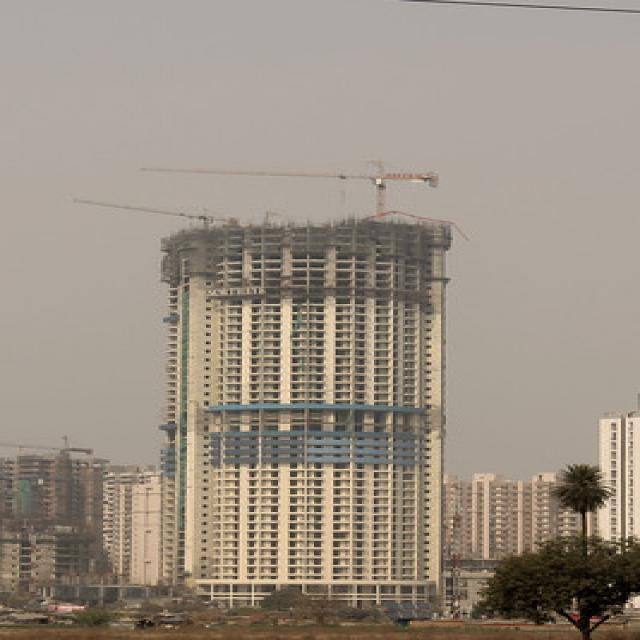Normal_building: (148, 212, 450, 625)
